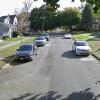Car: (13, 40, 37, 67)
